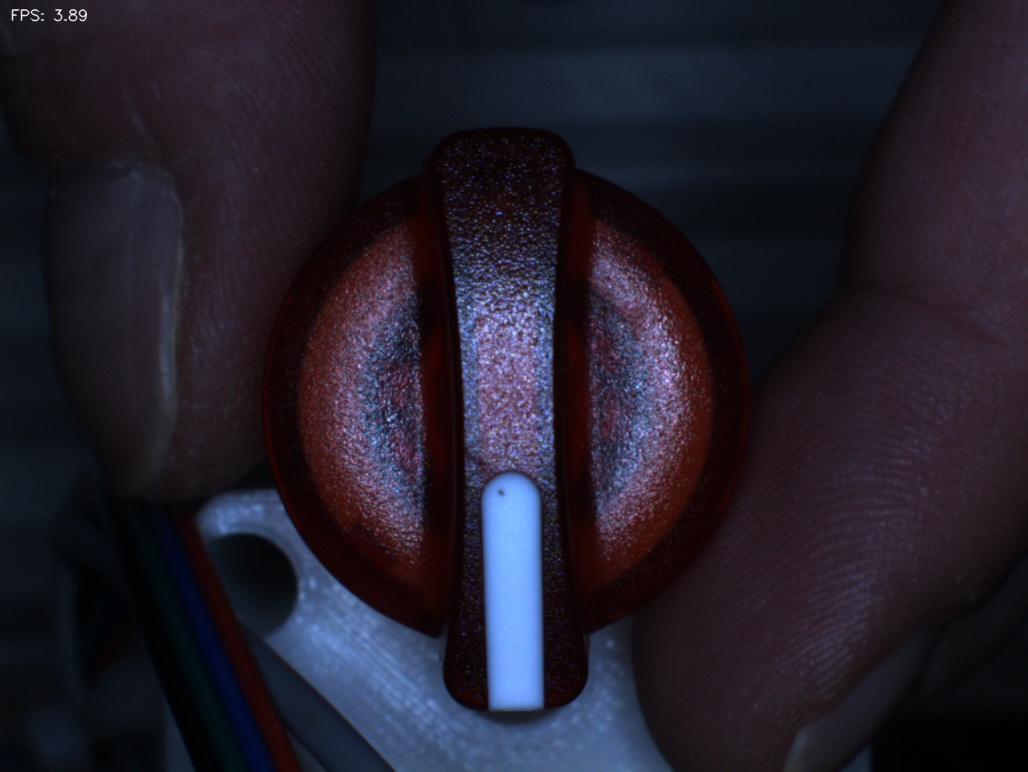PointNoir: (464, 461, 538, 533)
